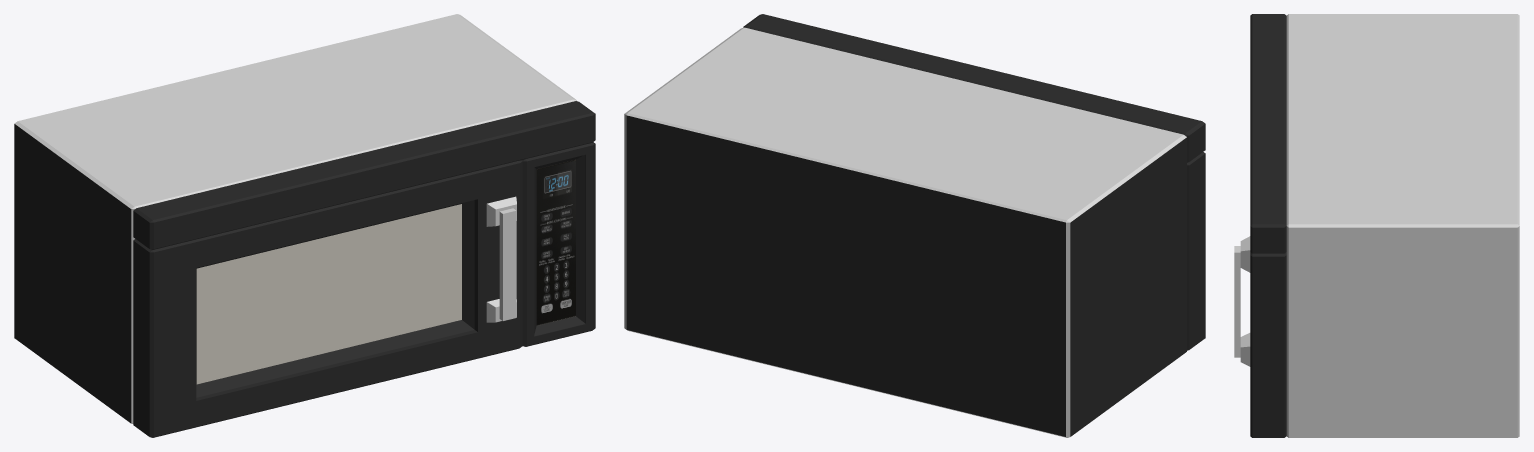
The model's file is MicroWave.fbx.
The picture shows the model from 3 angles, left to right: view 1: azimuth 30°, elevation 25°; view 2: azimuth 150°, elevation 25°; view 3: azimuth 270°, elevation 25°; orthographic projection.
Parts seen in each view (by area): view 1: Cube.007; view 2: Cube.007; view 3: Cube.007.
Boxes of the visible parts, x1=… form: Cube.007: x1=14, y1=14, x2=595, y2=437; Cube.007: x1=624, y1=14, x2=1205, y2=437; Cube.007: x1=1234, y1=14, x2=1519, y2=437.
Size of the model in its own units: 75 by 35 by 42.39.
Materials: 4 (2 with a texture image).
